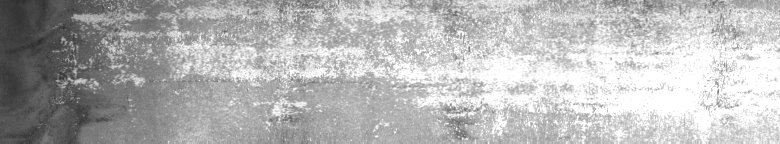hc: (52, 10, 162, 104)
